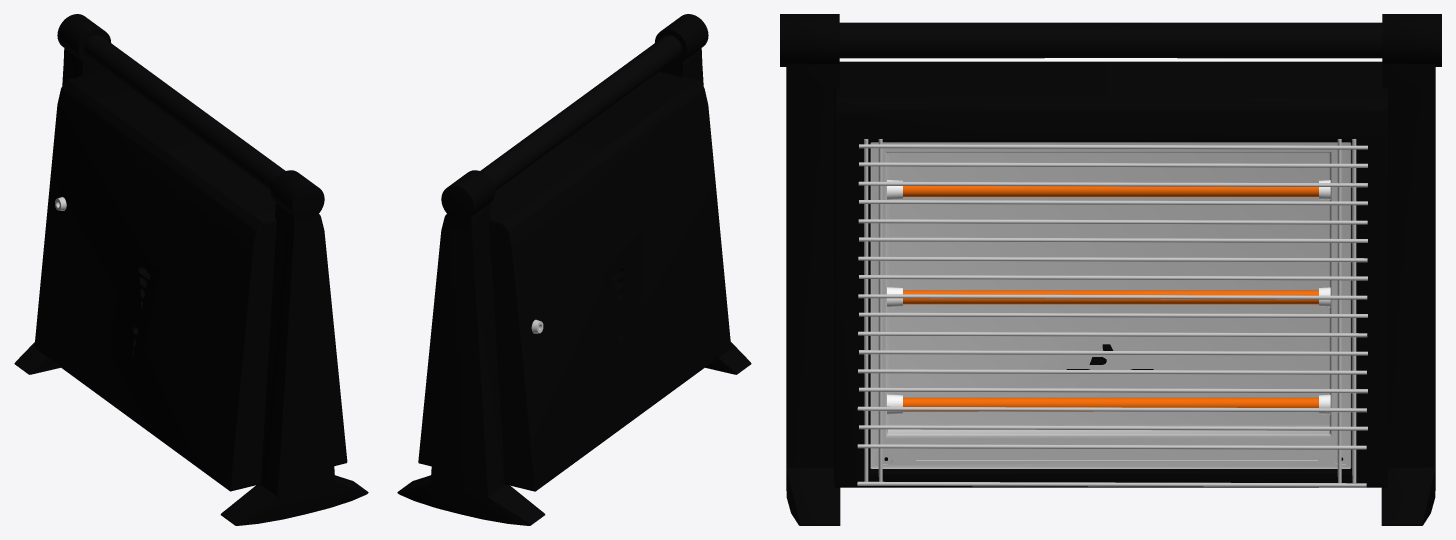
Rendered from heaterready_7obj_precut.obj.
The picture shows the model from 3 angles, left to right: view 1: azimuth 30°, elevation 25°; view 2: azimuth 150°, elevation 25°; view 3: azimuth 270°, elevation 25°; orthographic projection. The views are drawn at different scales.
Visible parts, largest first — view 1: Cube_Cube.001, Cube.003_Cube.004; view 2: Cube_Cube.001, Cube.003_Cube.004; view 3: Cube_Cube.001, Cube.003_Cube.004, Cylinder.006_Cylinder.010, Cylinder.001_Cylinder.005.
Part boxes in pixels (x1=…): Cube_Cube.001: x1=34, y1=71, x2=347, y2=491; Cube.003_Cube.004: x1=14, y1=14, x2=368, y2=525; Cube_Cube.001: x1=418, y1=71, x2=730, y2=491; Cube.003_Cube.004: x1=397, y1=14, x2=751, y2=525; Cube_Cube.001: x1=834, y1=61, x2=1388, y2=487; Cube.003_Cube.004: x1=780, y1=14, x2=1441, y2=525; Cylinder.006_Cylinder.010: x1=857, y1=139, x2=1367, y2=487; Cylinder.001_Cylinder.005: x1=887, y1=180, x2=1330, y2=414.
Bounding box in the file's own units: 2.8 × 6.6 × 8.51.
